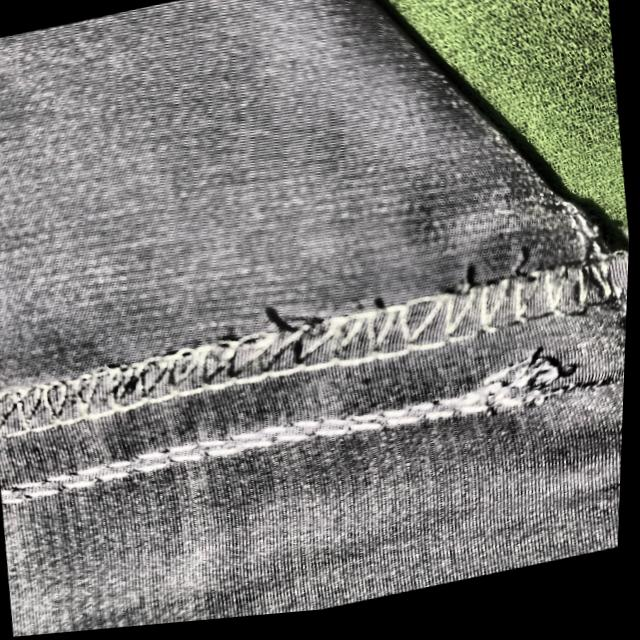Stitch: (431, 352, 628, 457)
